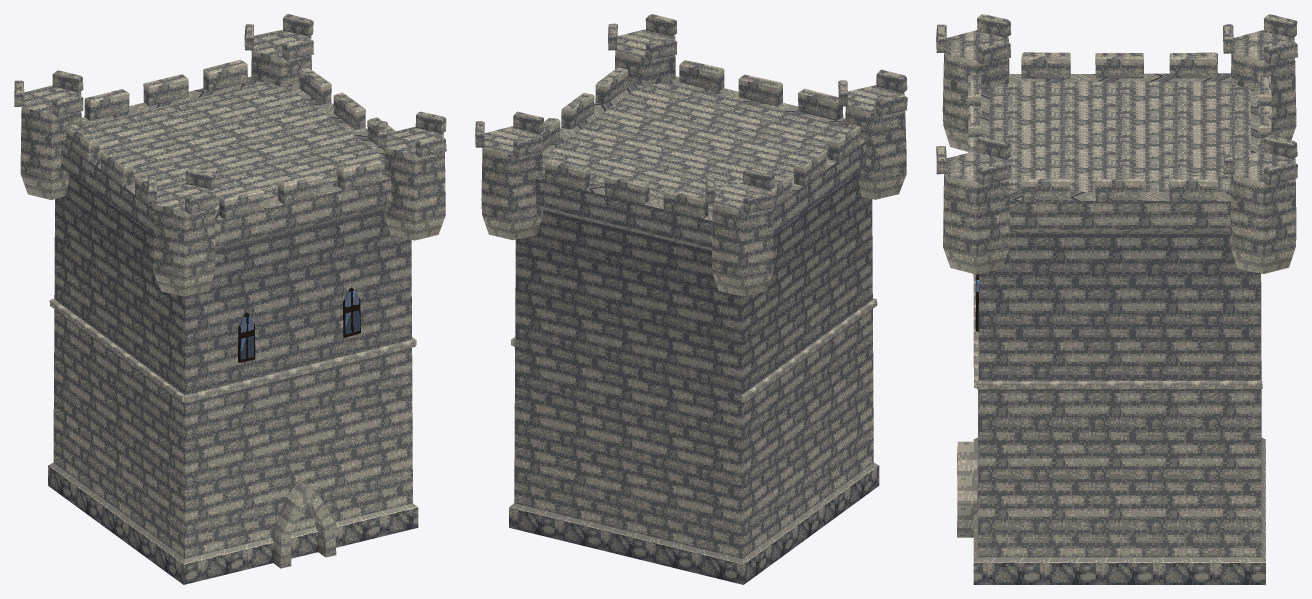
File: cst.keep__crenellated.glb
3 views of the same model, side by side, from view 1: azimuth 30°, elevation 25°; view 2: azimuth 150°, elevation 25°; view 3: azimuth 270°, elevation 25° (orthographic). The views are drawn at different scales.
Parts seen in each view (by area): view 1: kit_walls, kit_top, kit_detail; view 2: kit_walls, kit_top, kit_detail; view 3: kit_walls, kit_top, kit_detail.
Boxes of the visible parts, x1,y1,x2,y2 form: kit_walls: (48,174,418,584); kit_top: (14,14,446,296); kit_detail: (49,287,416,568); kit_walls: (509,174,879,584); kit_top: (475,14,907,296); kit_detail: (511,298,877,402); kit_walls: (973,233,1265,584); kit_top: (936,14,1297,274); kit_detail: (957,274,1262,537).
Bounding box in the file's own units: 13.13 × 16.8 × 12.75.
Materials: 5 (5 with a texture image).
